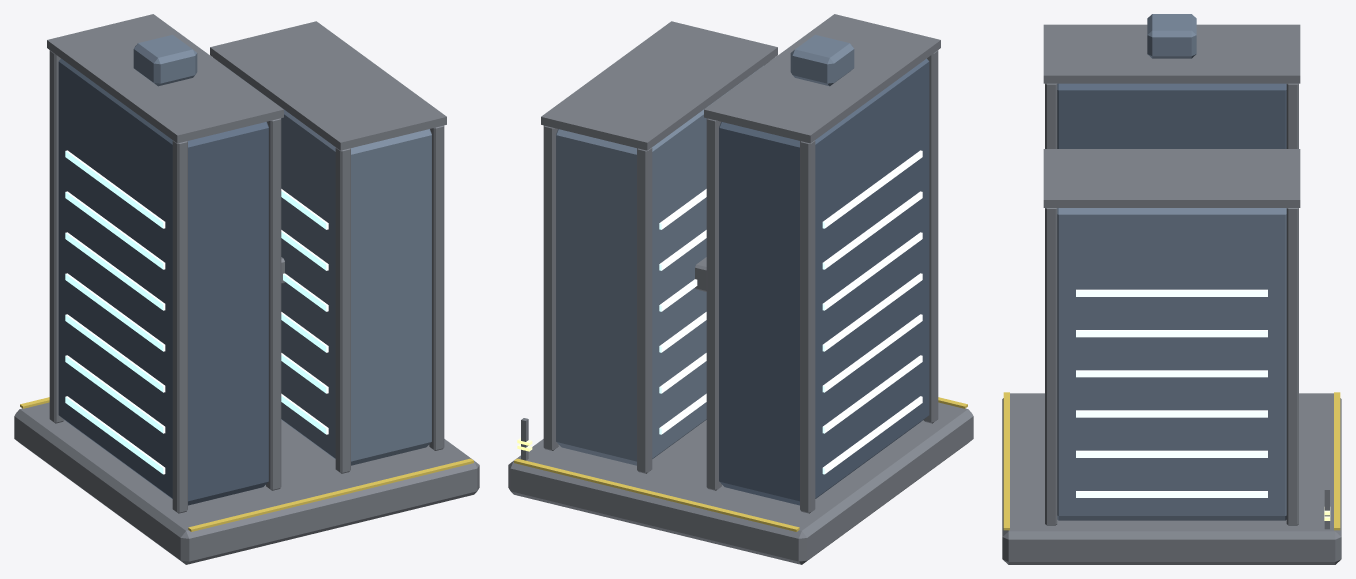
Rendered from zone_high_2_t2.glb.
3 renders of one model, left to right at view 1: azimuth 30°, elevation 25°; view 2: azimuth 150°, elevation 25°; view 3: azimuth 270°, elevation 25°, orthographic.
Visible parts, largest first — view 1: zone_high_2_t2, detail; view 2: zone_high_2_t2, detail; view 3: zone_high_2_t2, detail.
Part boxes in pixels (<box>): zone_high_2_t2: <box>14,14,479,564</box>; detail: <box>20,397,473,531</box>; zone_high_2_t2: <box>508,14,973,564</box>; detail: <box>514,397,967,531</box>; zone_high_2_t2: <box>1002,14,1341,564</box>; detail: <box>1003,392,1340,530</box>.
Size of the model in its own units: 27.5 by 38.89 by 27.5.
